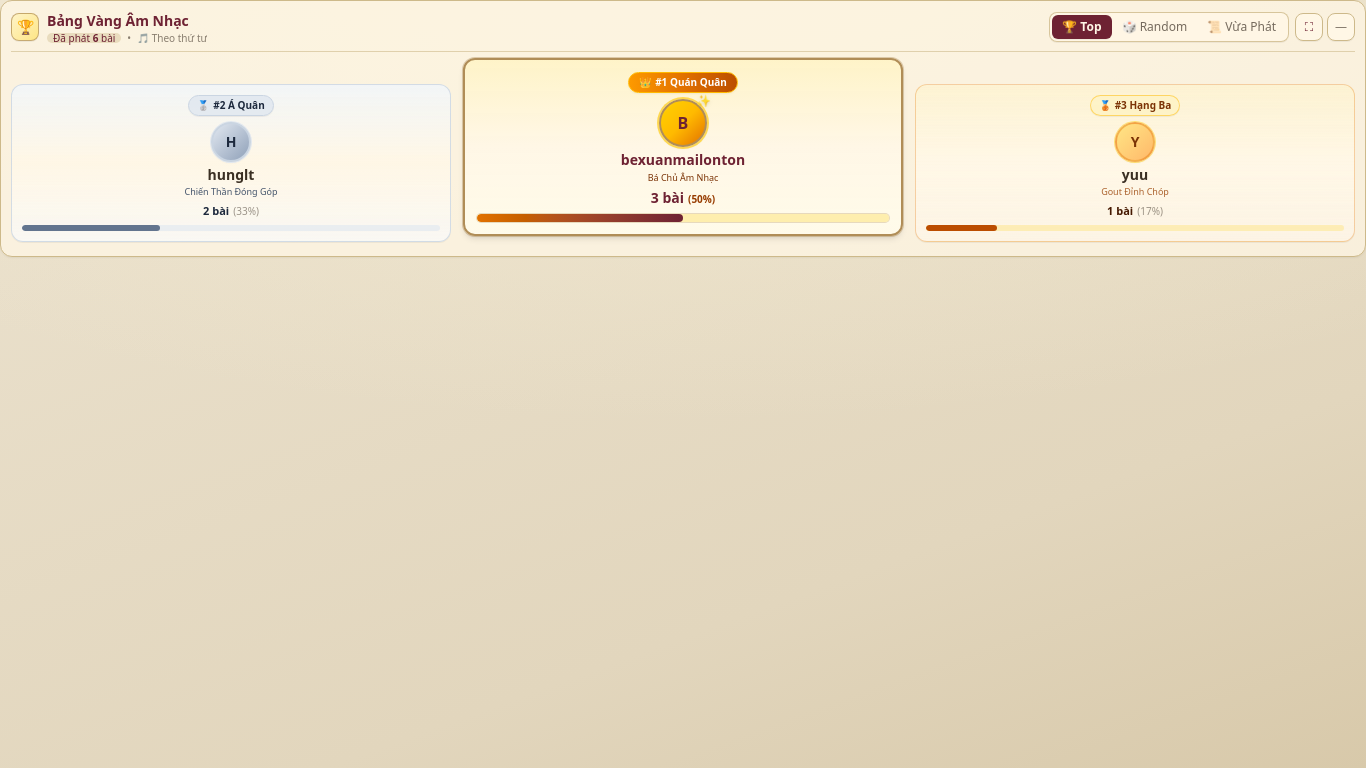
RoomLeaderboard › switches to Random / Shuffle Luck tab cleanly
This screenshot has width=1366, height=768.
Click the button "🎲 Random" at point(1154, 27), box x1=1112 y1=15 x2=1197 y2=39
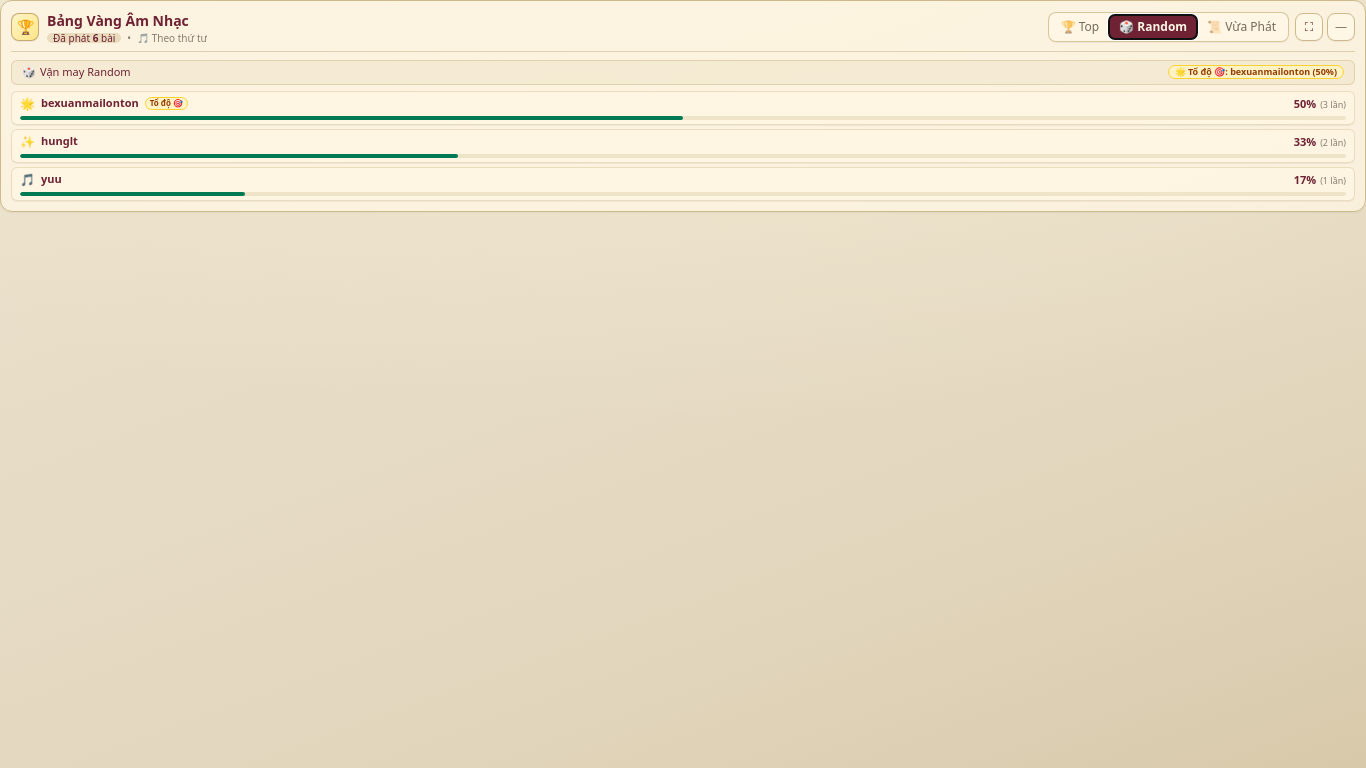
Expected: the text "Vận may Random" is shown, x1=40 y1=65 x2=131 y2=80
